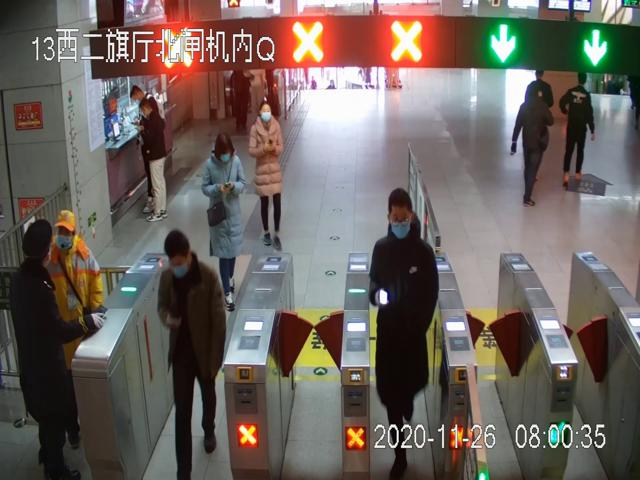person: (369, 184, 439, 478), (155, 229, 230, 477), (20, 223, 80, 480), (200, 131, 250, 309), (49, 200, 101, 347), (245, 102, 296, 249), (130, 82, 176, 215), (514, 86, 553, 209), (560, 70, 596, 187), (141, 102, 172, 223)
